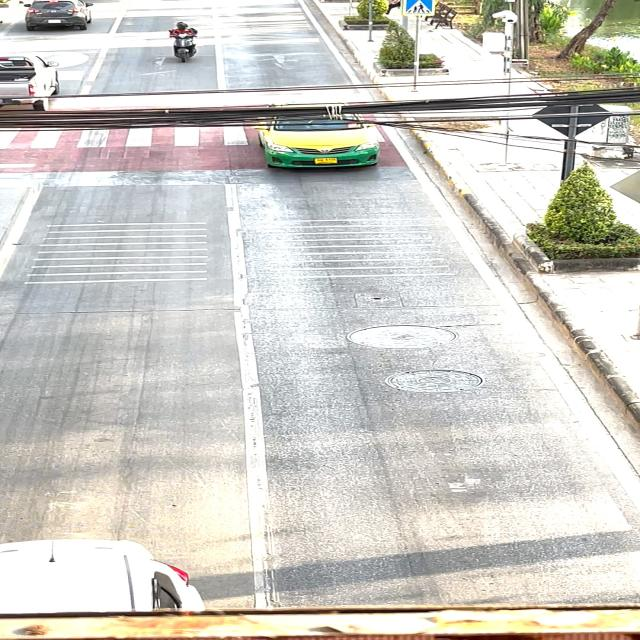car: (0, 517, 226, 622), (232, 80, 400, 180)
